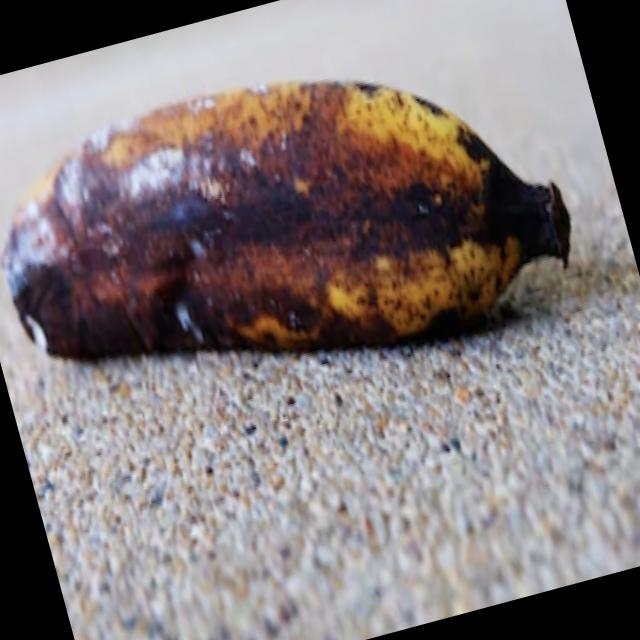rotten-banana: (0, 7, 580, 434)
